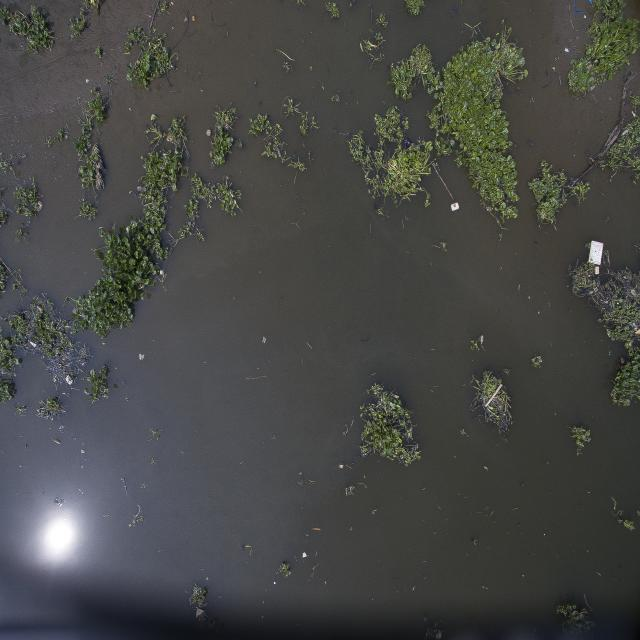plastic: (587, 235, 608, 282), (449, 198, 463, 216)
